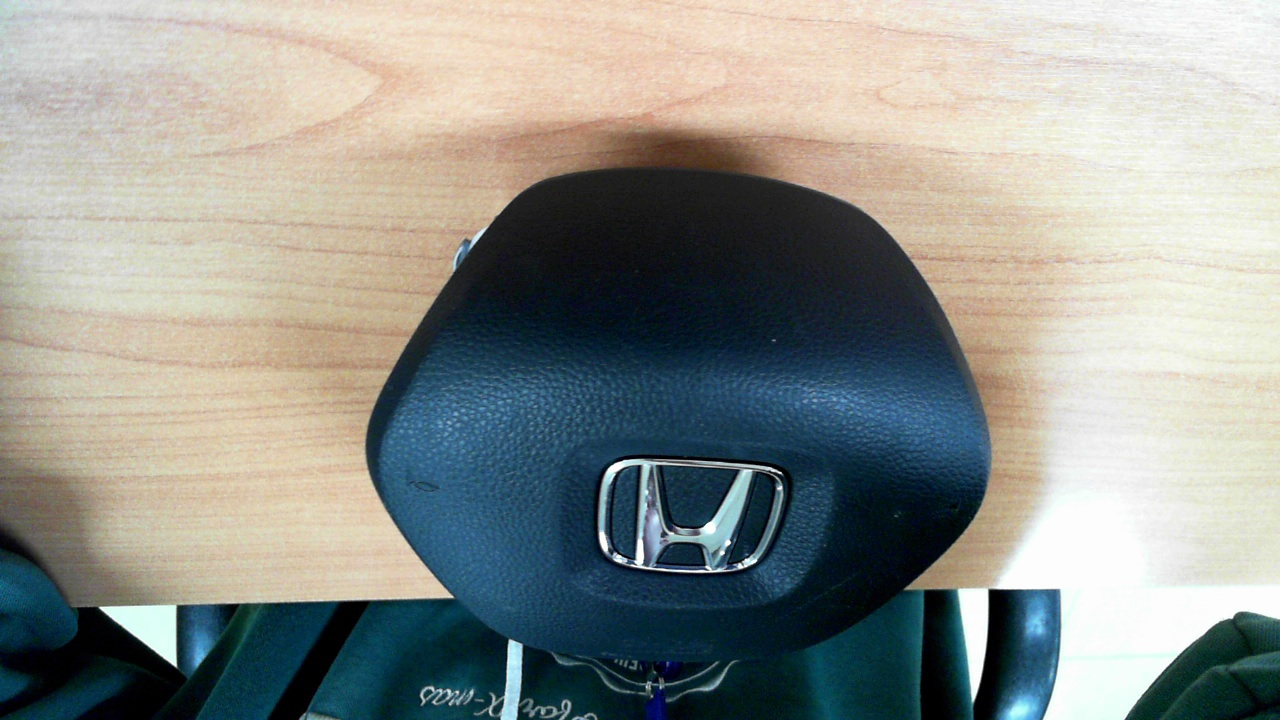Airbag: (364, 164, 993, 661)
Honda: (596, 456, 787, 575)
